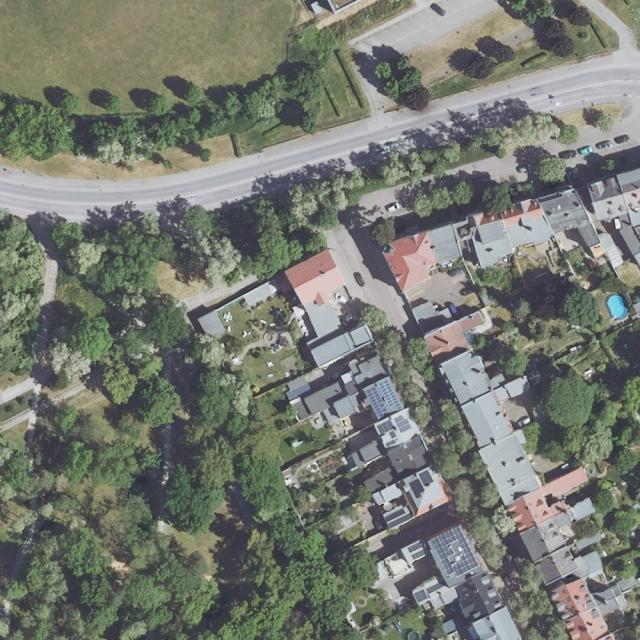PV: (430, 526, 481, 577), (378, 379, 403, 410), (365, 387, 389, 418), (395, 415, 412, 433), (376, 419, 395, 435), (409, 479, 425, 498), (419, 470, 433, 486), (413, 590, 428, 603), (428, 582, 444, 593), (411, 550, 428, 560), (408, 541, 422, 552)
